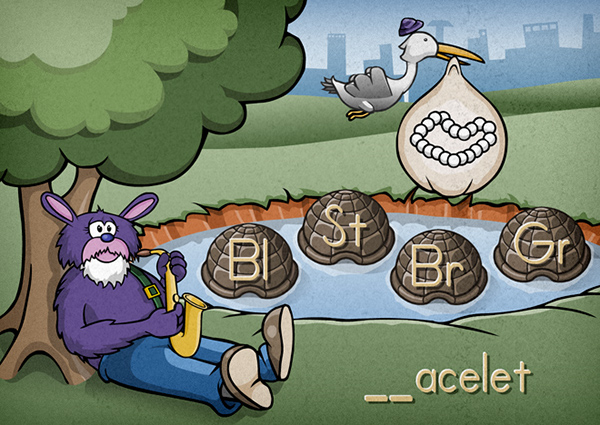bird: (315, 17, 490, 131)
cat: (33, 179, 304, 422)
